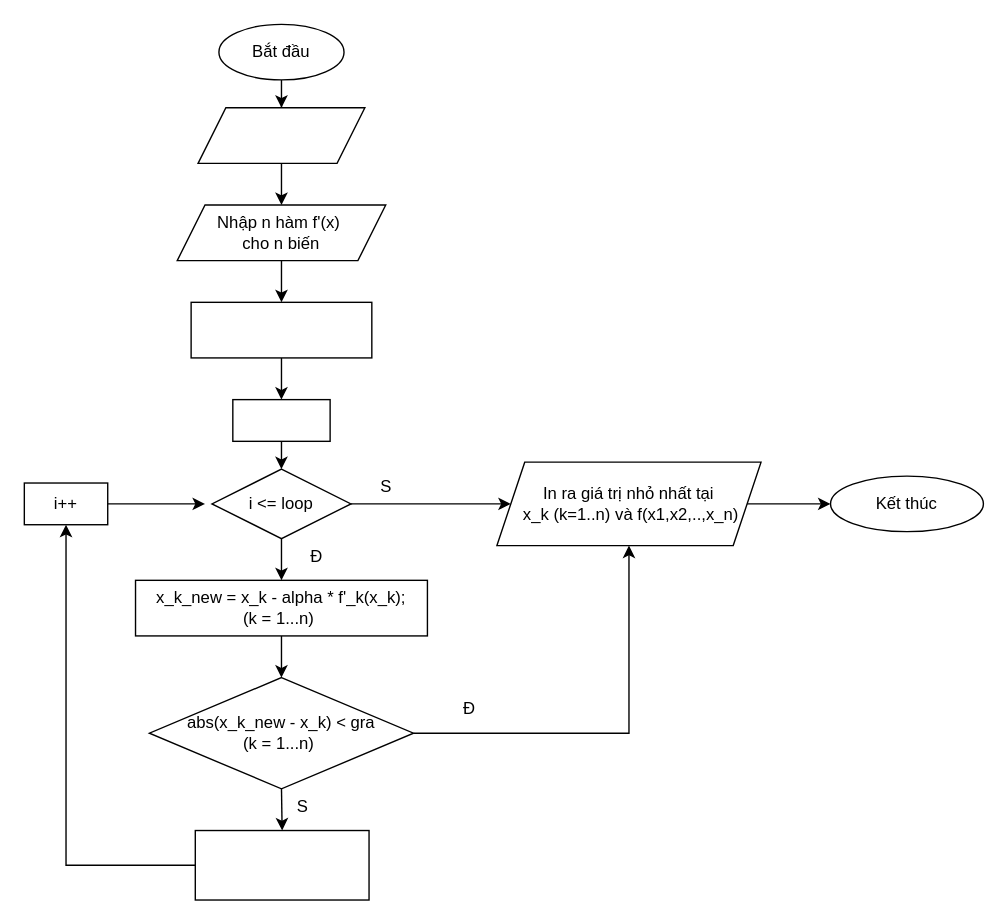
Some shapes in this 1008 by 924 pixel diagram are drawn without their labels. Here are the shapes that lost their labels. From the top down, the box of each, then its label:
(197, 106, 365, 163): Nhập hàm f(x)
(190, 301, 372, 358): x_1,x_2,...,x_n = 1
(231, 398, 330, 441): i = 1
(194, 829, 369, 900): x_k = x_k_new; (k=1..n)
